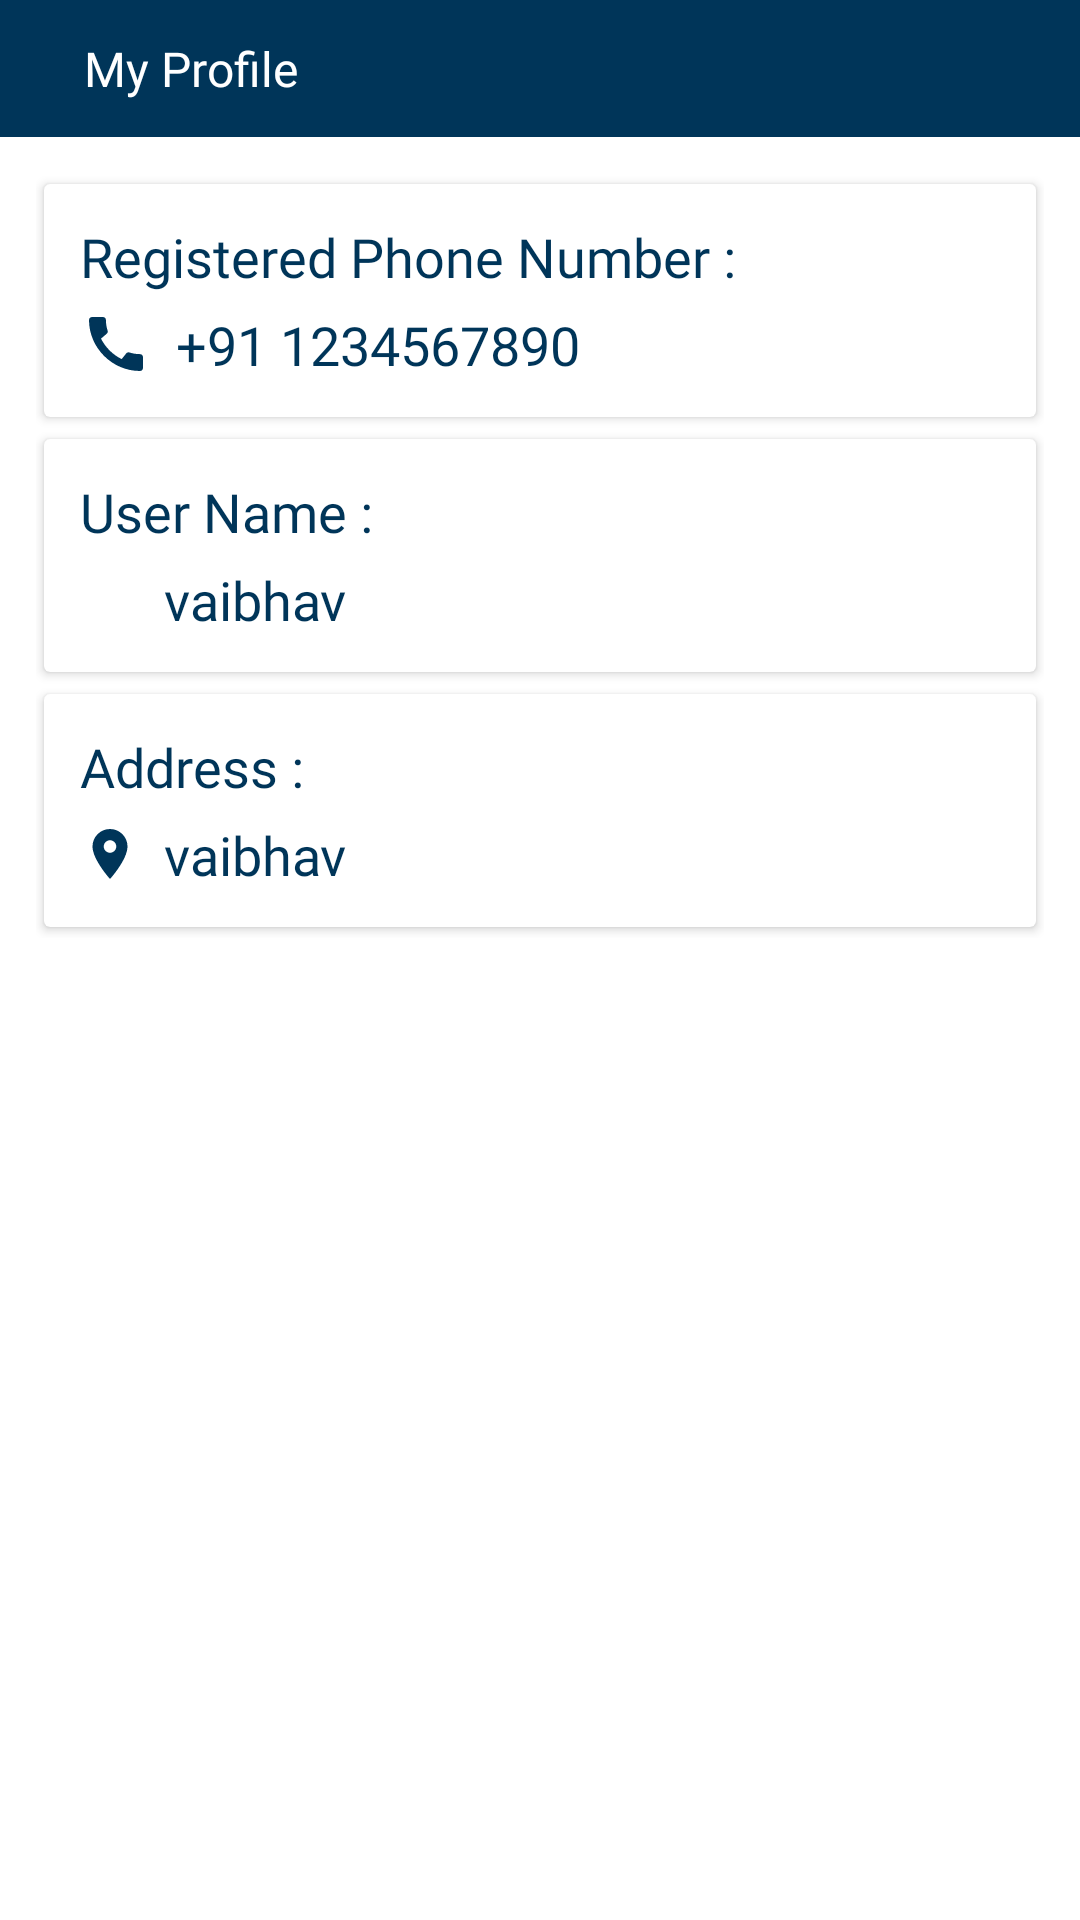

Icons on this 1080px x 1920px Android screen, each with the point to tap as (x,y):
call: (116,344)
location on: (110,854)
